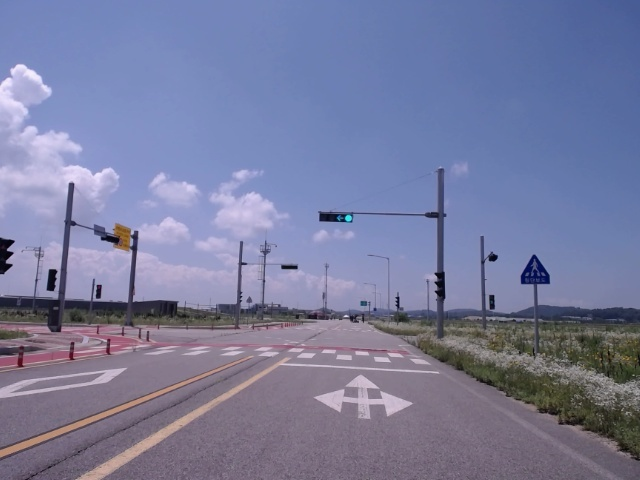all_green_4: (319, 207, 357, 223)
